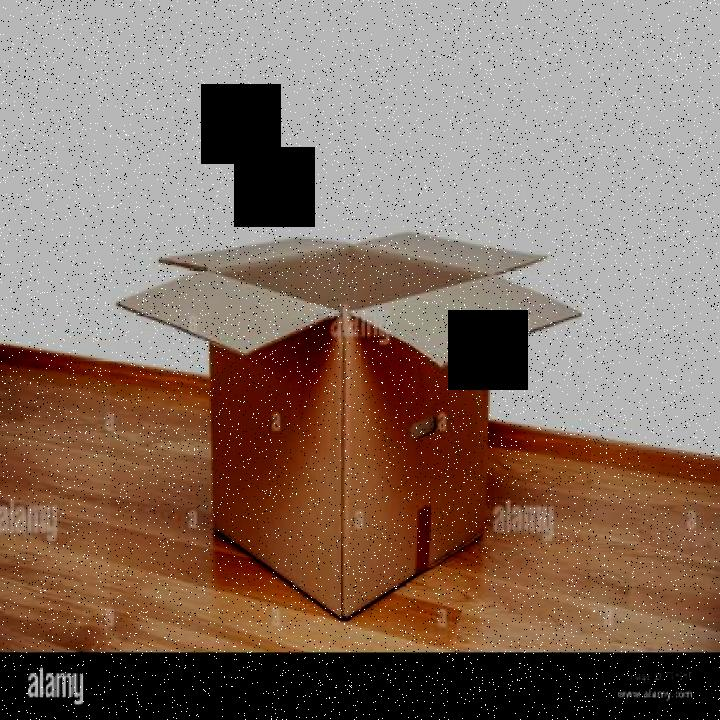box: (110, 214, 591, 622)
